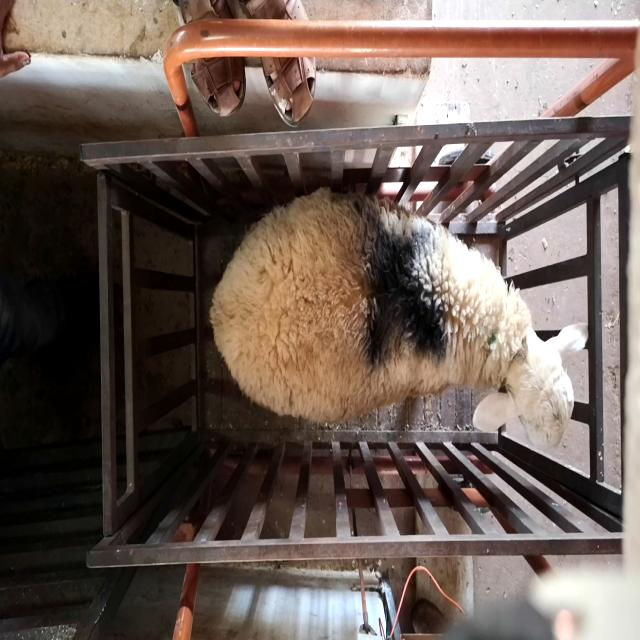sheep: (209, 188, 589, 450)
